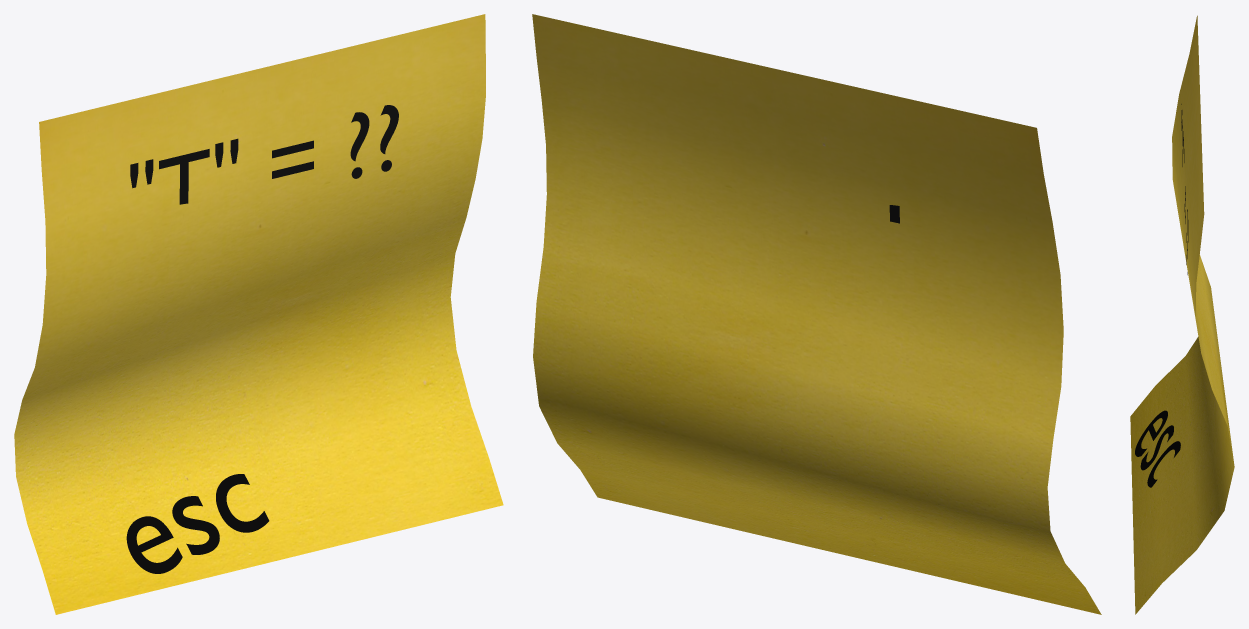
File: sticknote.glb
3 views of the same model, side by side, from view 1: azimuth 30°, elevation 25°; view 2: azimuth 150°, elevation 25°; view 3: azimuth 270°, elevation 25° (orthographic). The views are drawn at different scales.
Parts seen in each view (by area): view 1: single curved, Text.001, Text; view 2: single curved; view 3: single curved, Text.001, Text.
Part boxes in pixels (<box>): single curved: <box>14,14,503,614</box>; Text.001: <box>126,474,269,573</box>; Text: <box>130,105,398,204</box>; single curved: <box>532,14,1101,614</box>; single curved: <box>1130,15,1234,614</box>; Text.001: <box>1135,410,1180,487</box>; Text: <box>1181,104,1188,274</box>.
Bounding box in the file's own units: 0.5229 × 0.491 × 0.1122.
Materials: 3 (1 with a texture image).
